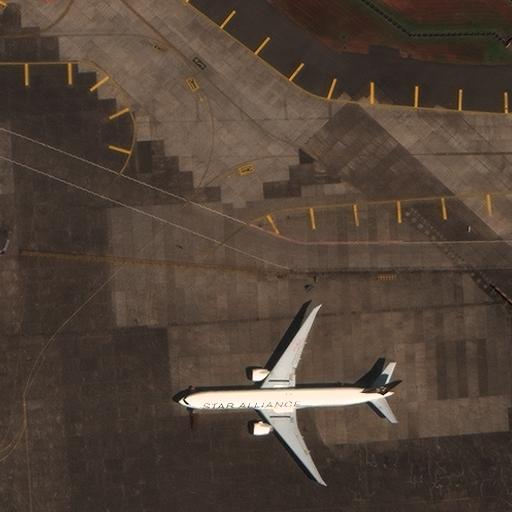Large Civil Transport: (178, 307, 399, 483)
